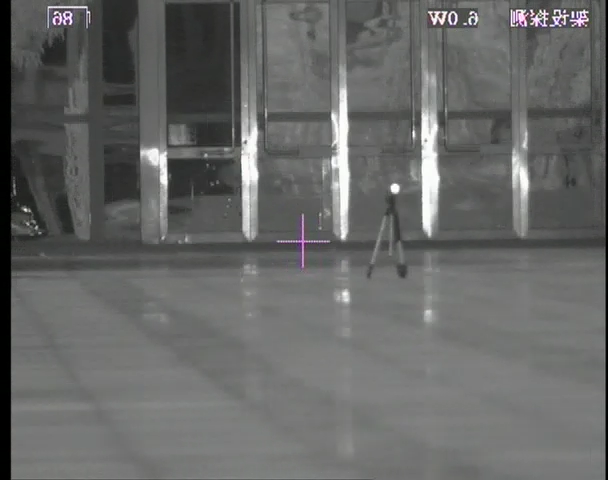my: (389, 182, 401, 195)
